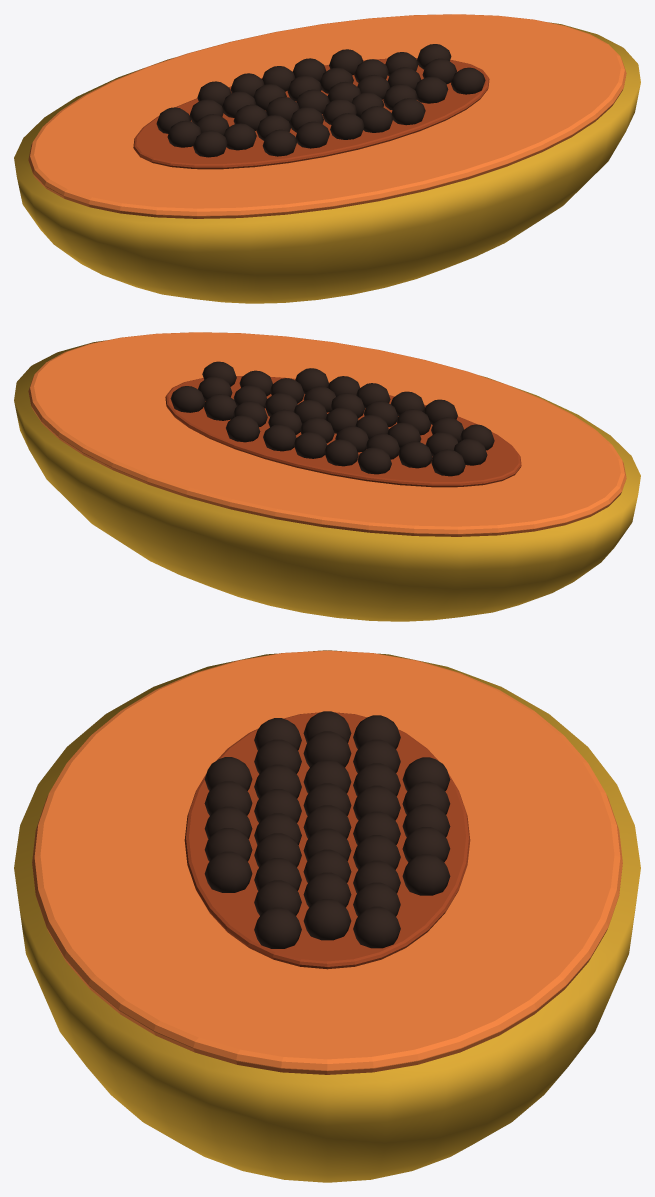
File: papaya.glb
The picture shows the model from 3 angles, top to bottom: view 1: azimuth 30°, elevation 25°; view 2: azimuth 150°, elevation 25°; view 3: azimuth 270°, elevation 25°; orthographic projection. The views are drawn at different scales.
Parts seen in each view (by area): view 1: papaya; view 2: papaya; view 3: papaya.
Part boxes in pixels (x1=…): papaya: x1=14, y1=14, x2=640, y2=303; papaya: x1=14, y1=332, x2=640, y2=621; papaya: x1=14, y1=650, x2=640, y2=1182.
Bounding box in the file's own units: 1.48 × 0.4374 × 0.9.
